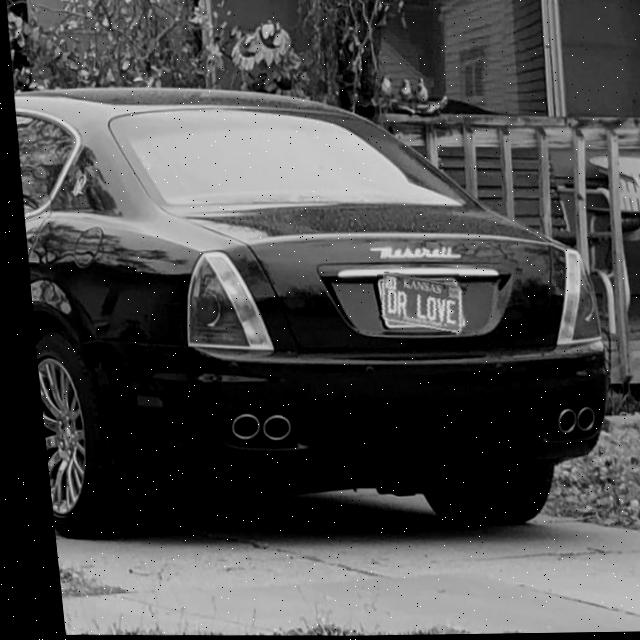LicensePlate: (374, 274, 454, 335)
